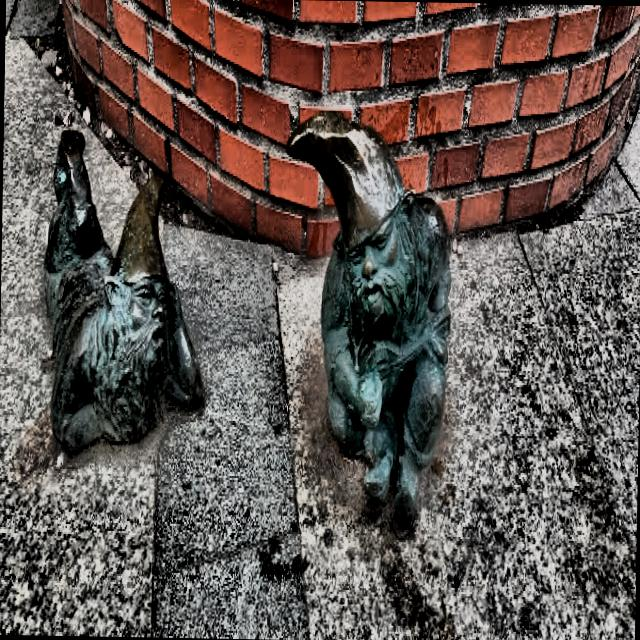Grajek_i_Meloman: (43, 112, 451, 537)
